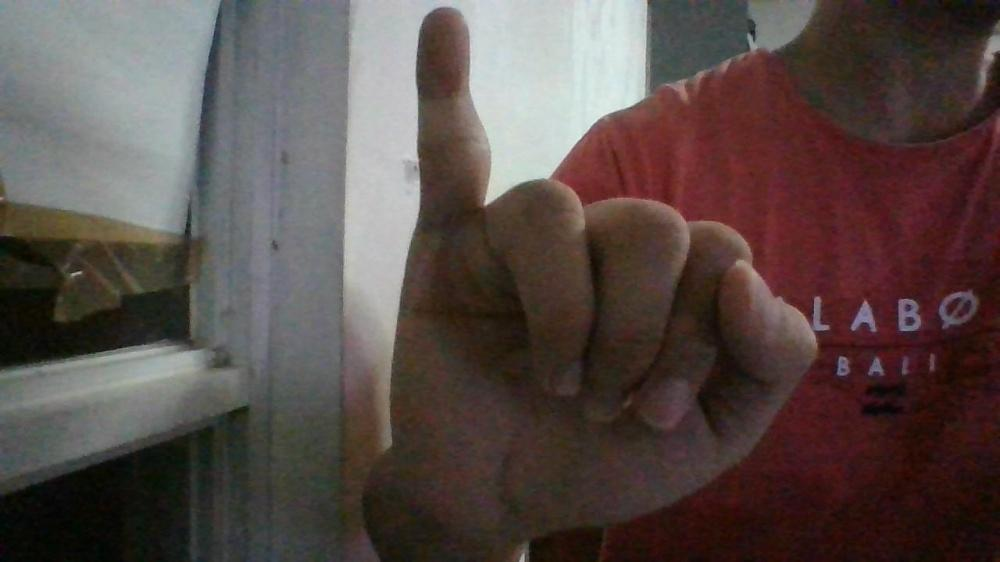i: (384, 4, 817, 536)
